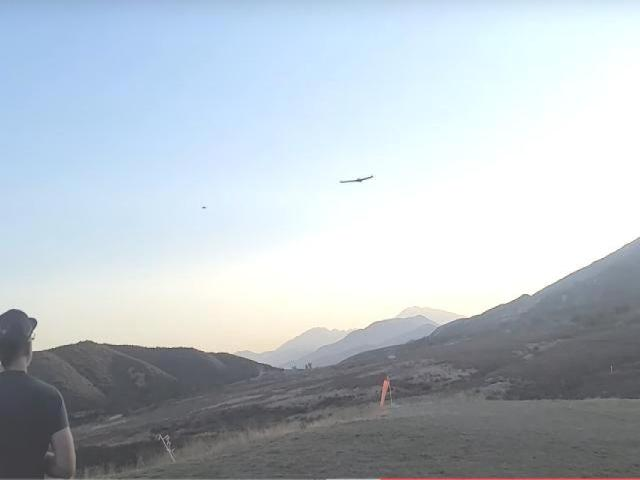iha: (338, 172, 372, 190)
